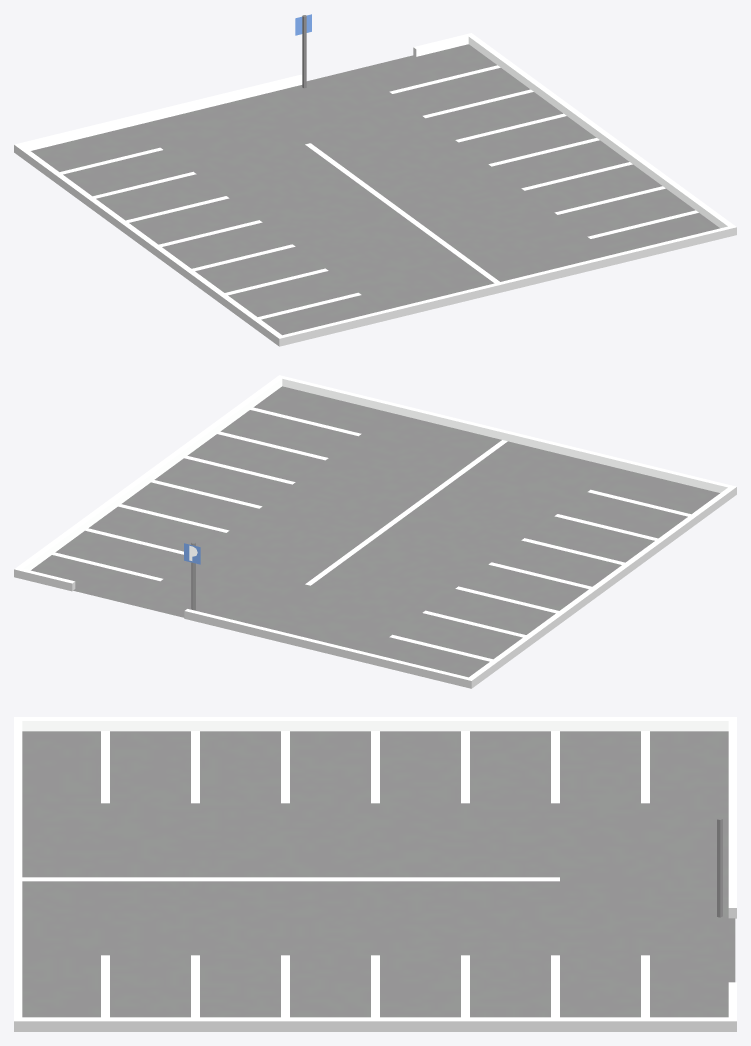
Rendered from parking_tile_2x2_4.glb.
3 views of the same model, one above another, from view 1: azimuth 30°, elevation 25°; view 2: azimuth 150°, elevation 25°; view 3: azimuth 270°, elevation 25° (orthographic). The views are drawn at different scales.
Parts seen in each view (by area): view 1: parking_tile_2x2_4(Clone); view 2: parking_tile_2x2_4(Clone); view 3: parking_tile_2x2_4(Clone).
Boxes of the visible parts, box(x1,y1,x2,y2) form: parking_tile_2x2_4(Clone): box(14, 14, 736, 346); parking_tile_2x2_4(Clone): box(14, 375, 736, 688); parking_tile_2x2_4(Clone): box(14, 717, 736, 1031).
Size of the model in its own units: 16 by 2.47 by 16.07.
1 material, 1 textured.
